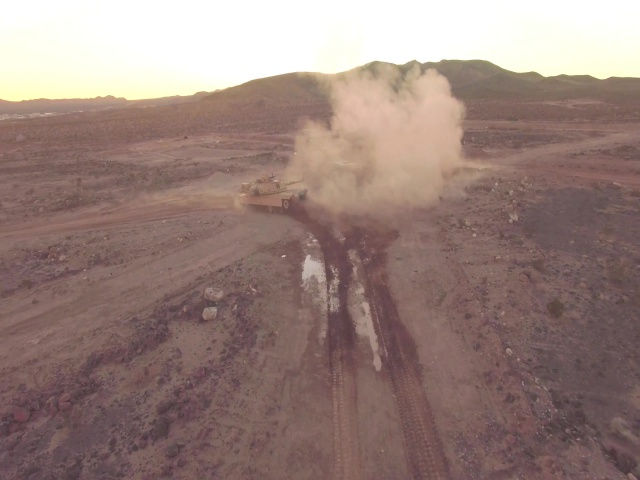vehicle: (235, 175, 309, 211)
